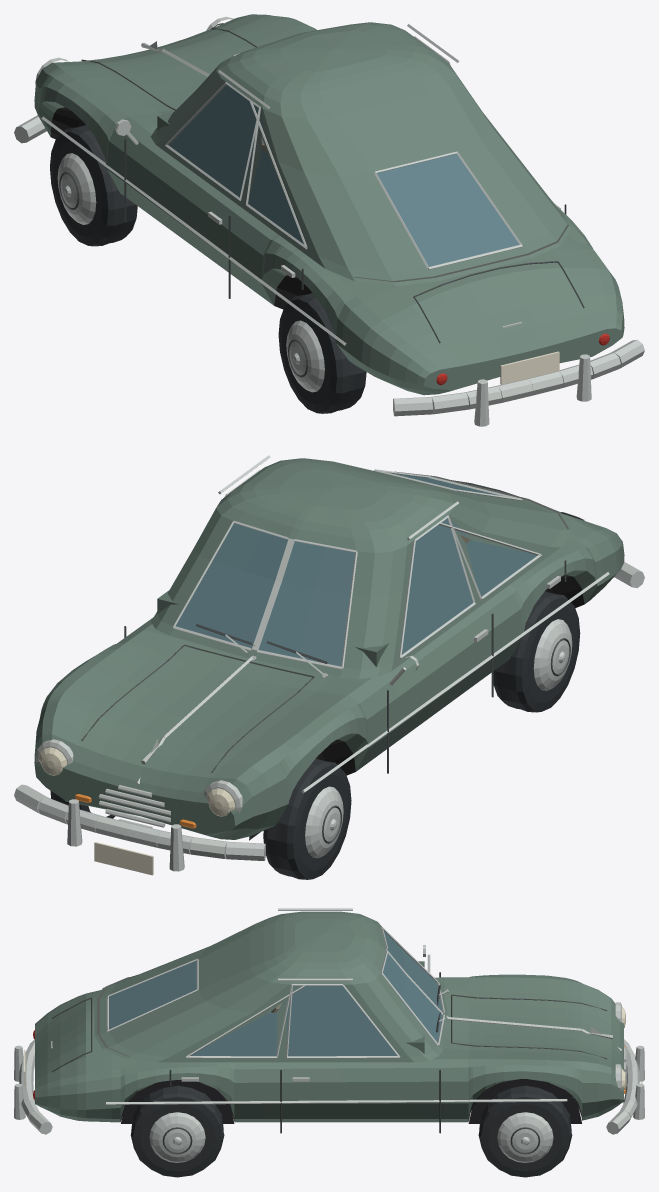
File: 13_saloon_53.glb
3 views of the same model, one above another, from view 1: azimuth 30°, elevation 25°; view 2: azimuth 150°, elevation 25°; view 3: azimuth 270°, elevation 25° (orthographic). The views are drawn at different scales.
Visible parts, largest first — view 1: Body, Exterior_Details, Wheel_FL, Wheel_RL, Fine_Details, Interior; view 2: Body, Exterior_Details, Wheel_FL, Wheel_RL, Fine_Details, Interior; view 3: Body, Exterior_Details, Wheel_RR, Wheel_FR, Fine_Details, Interior.
Part boxes in pixels (x1,y1,x2,y2): Body: [34, 14, 624, 395]; Exterior_Details: [14, 16, 644, 426]; Wheel_FL: [50, 125, 137, 246]; Wheel_RL: [278, 293, 366, 413]; Fine_Details: [81, 28, 584, 343]; Interior: [157, 112, 568, 282]; Body: [34, 458, 624, 840]; Exterior_Details: [14, 455, 644, 875]; Wheel_FL: [263, 759, 351, 879]; Wheel_RL: [493, 591, 580, 712]; Fine_Details: [81, 469, 584, 772]; Interior: [157, 471, 568, 666]; Body: [35, 911, 623, 1123]; Exterior_Details: [14, 908, 644, 1134]; Wheel_RR: [130, 1085, 224, 1177]; Wheel_FR: [478, 1085, 572, 1177]; Fine_Details: [51, 926, 612, 1072]; Interior: [97, 961, 424, 1056].
Size of the model in its own units: 1.77 by 1.56 by 4.44.
